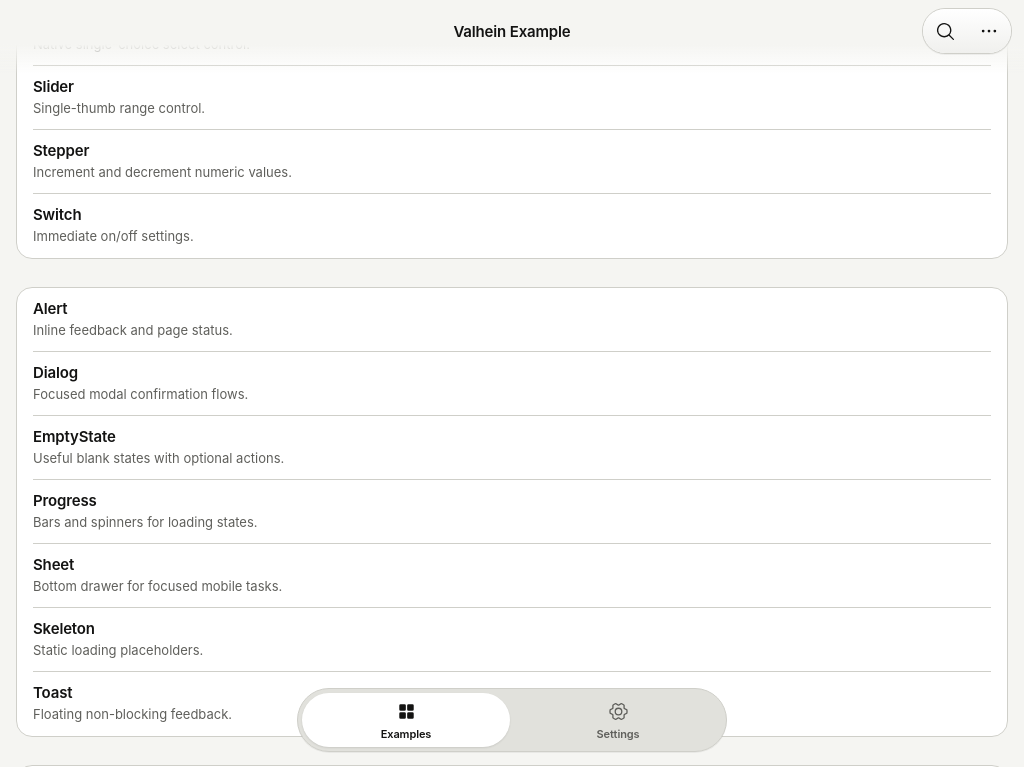
Scenario: App › opens and closes the dialog overlay flow
(page scrolled)
Step 1. Click the button "Dialog Focused modal confirmation flows." → [55, 373], box [33,352,991,416]
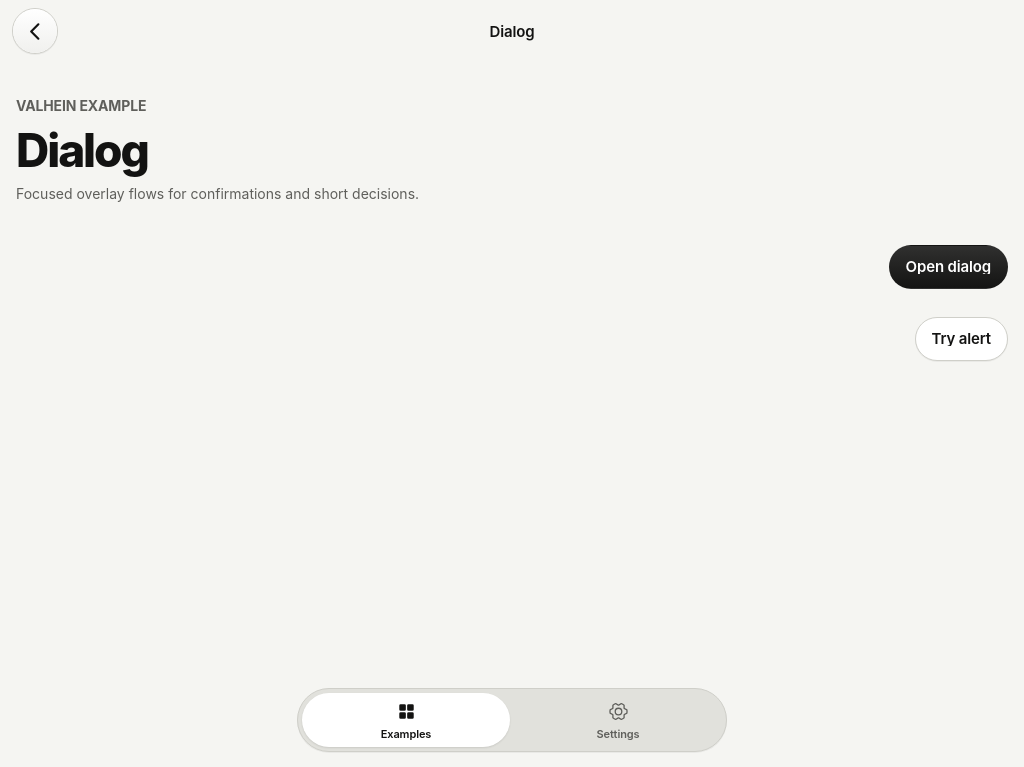
Step 2. Click the button "Try alert" → [961, 339], box [915,317,1008,361]
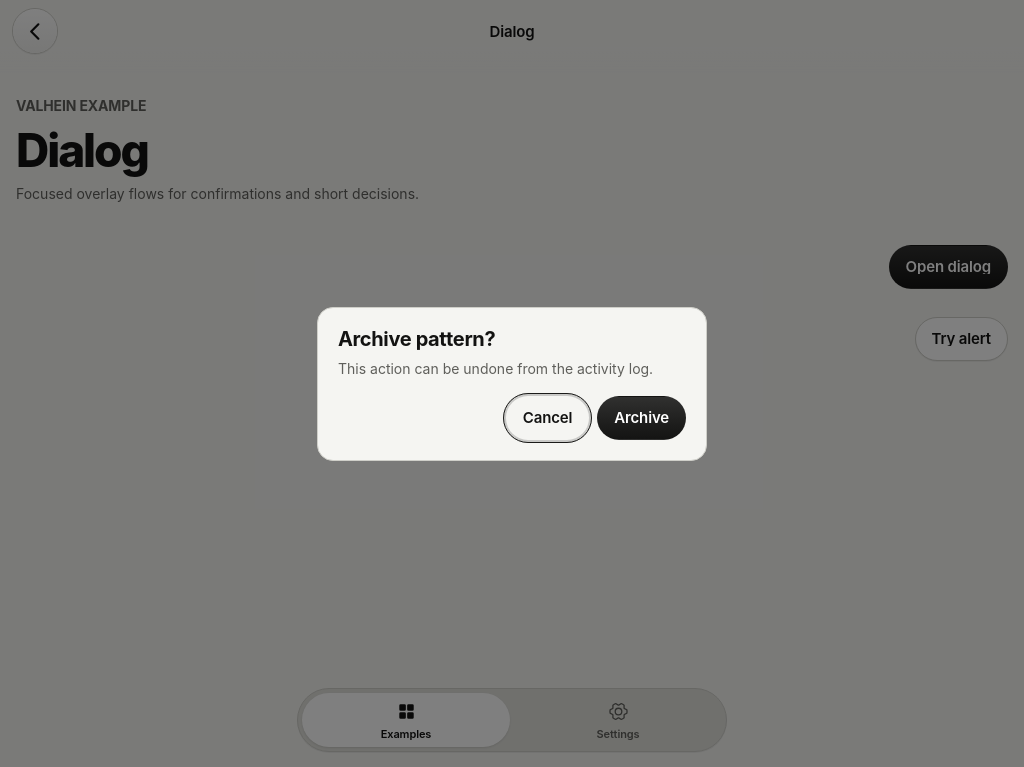
Expected: the heading "Archive pattern?" is shown, [338,327,495,351]
Step 3. Click the button "Cancel" → [548, 418], box [506,396,589,440]
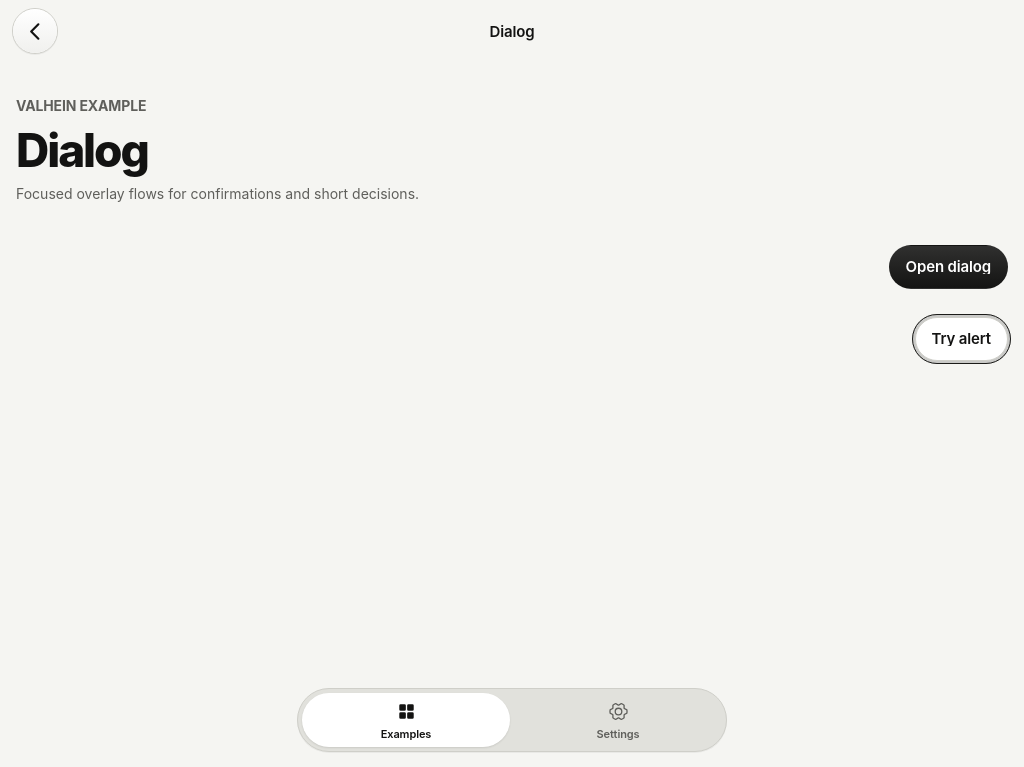
Expected: the heading "Archive pattern?" is gone
